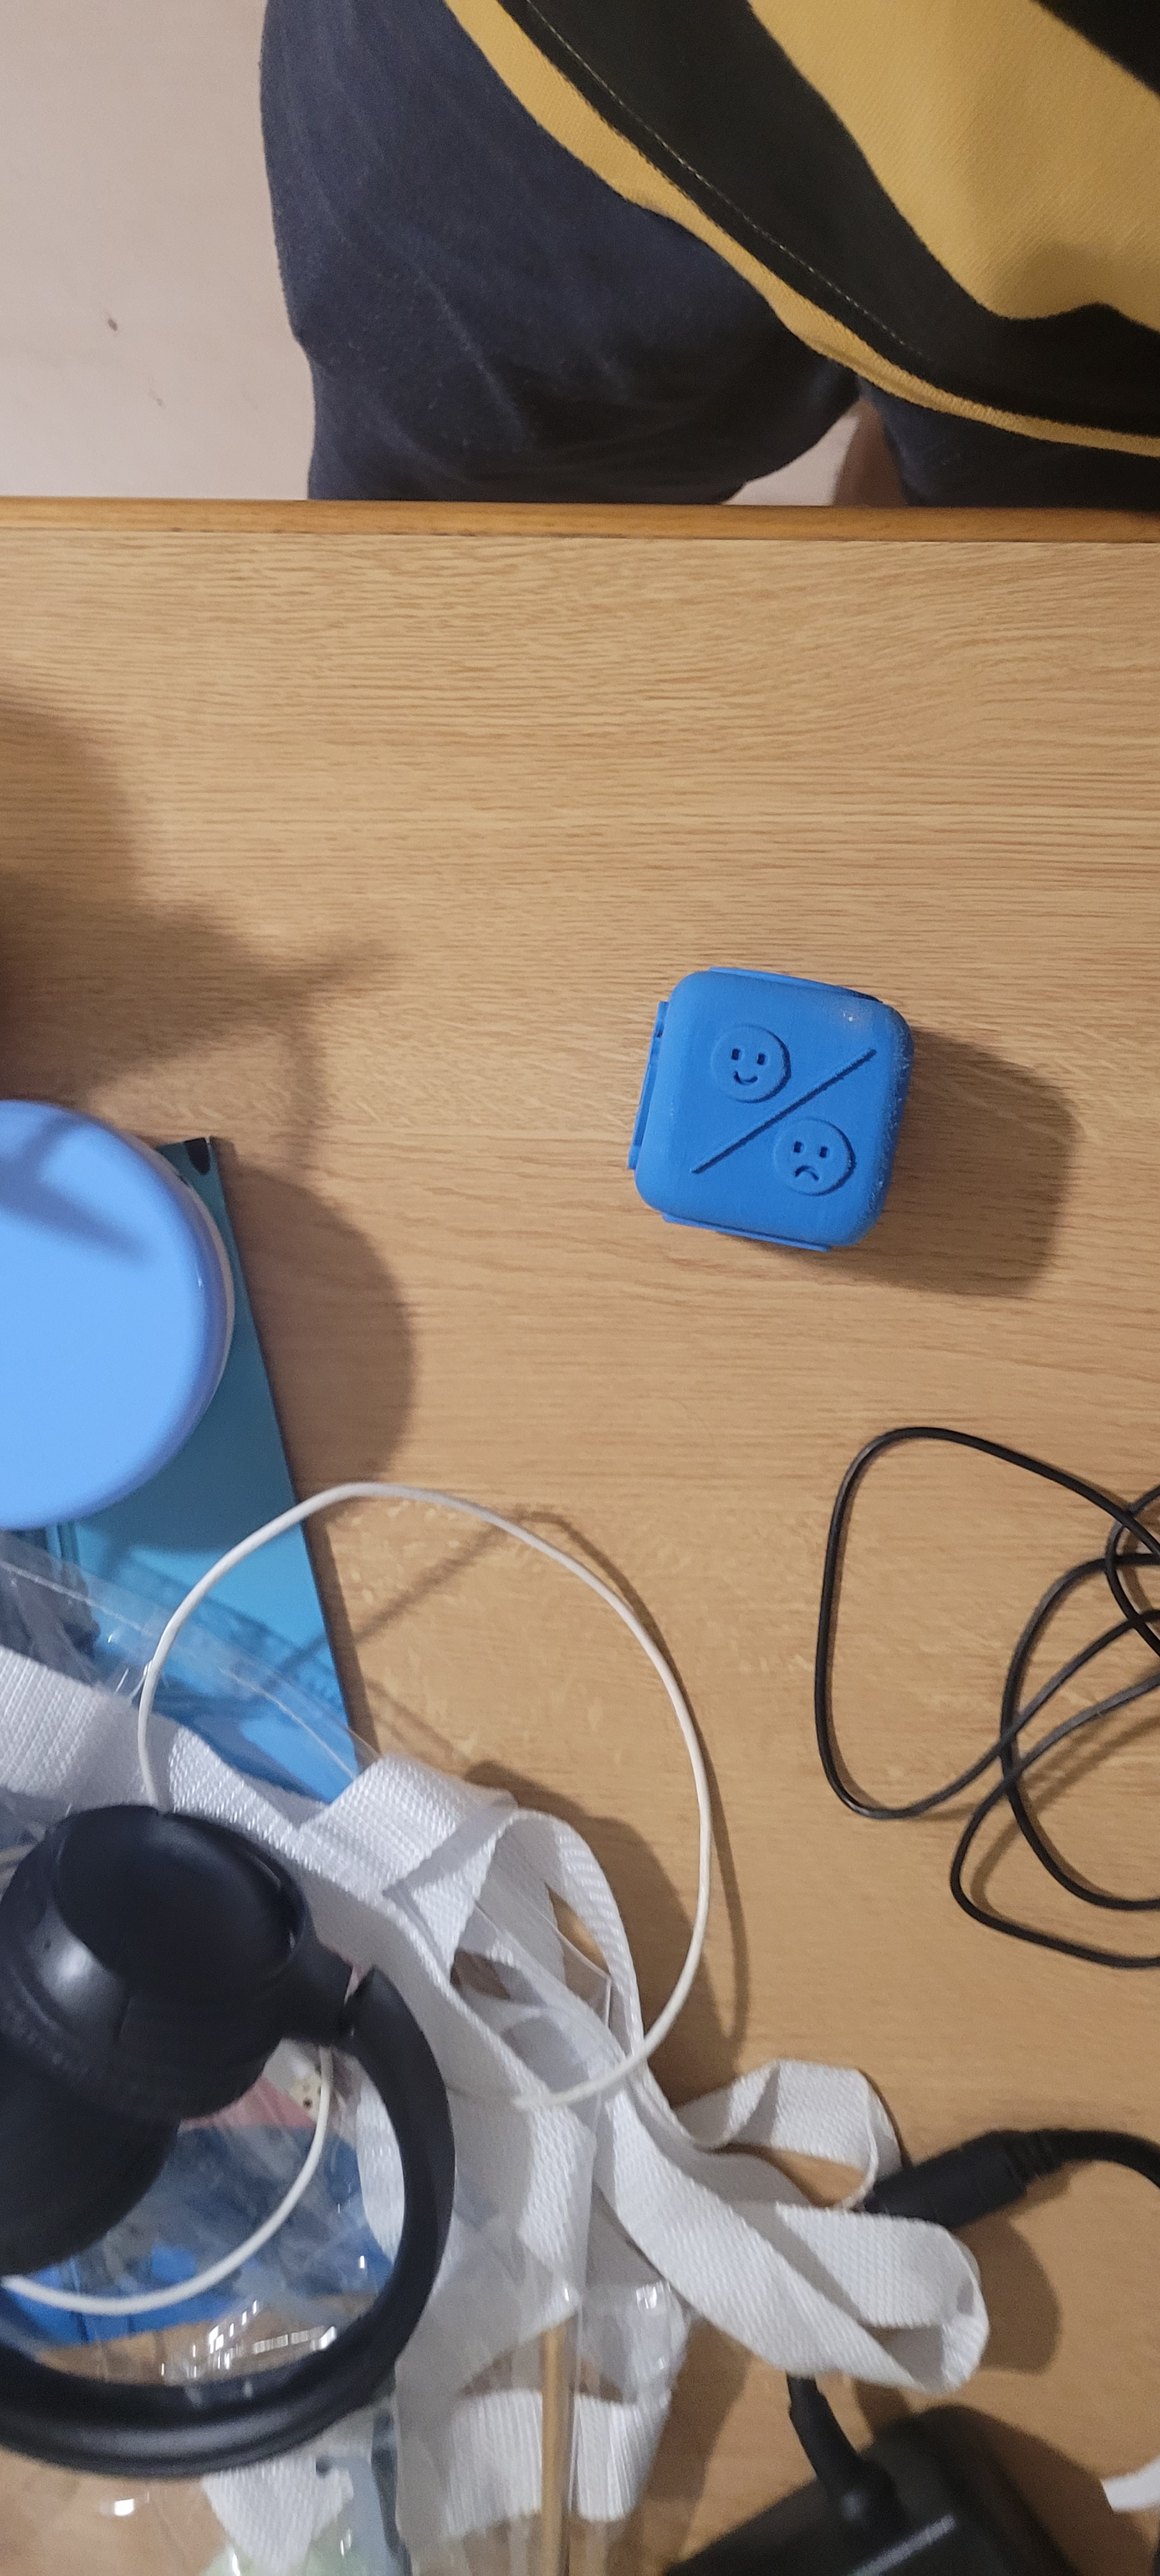Like/Dislike: (649, 969, 900, 1242)
